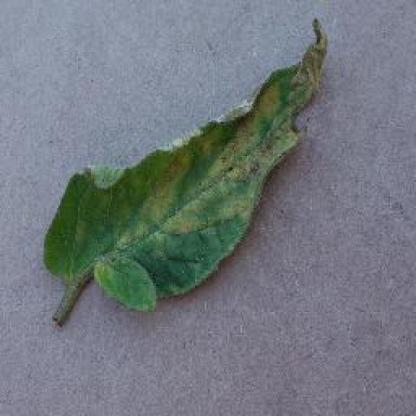Tomato_Leaf_Mold: (41, 18, 327, 294)
